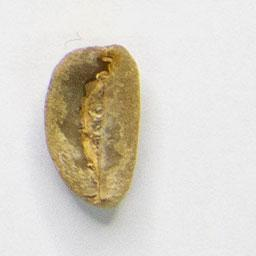longberry: (41, 41, 144, 211)
